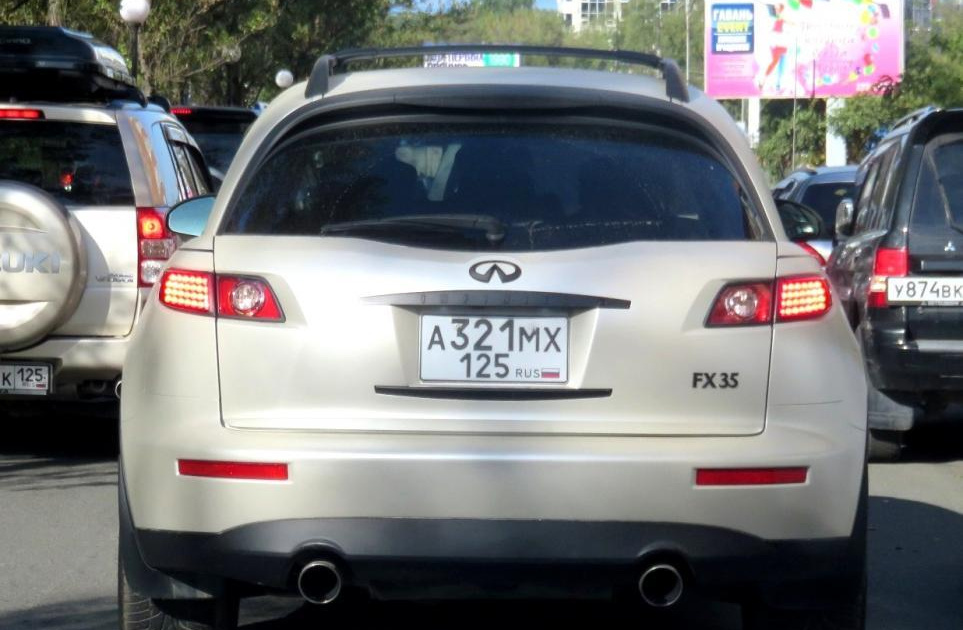number_plate: (412, 307, 569, 386)
